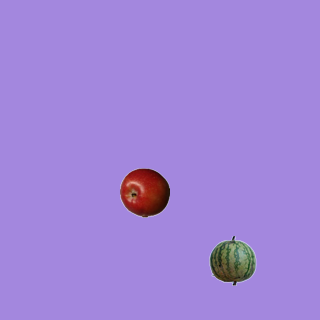Apple Braeburn: (119, 167, 169, 217)
Watermelon: (207, 235, 257, 285)
